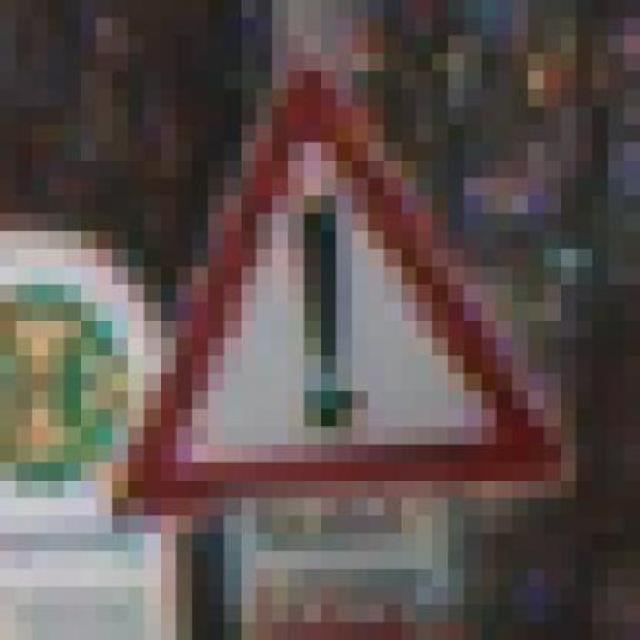Attention Please-: (80, 71, 592, 551)
